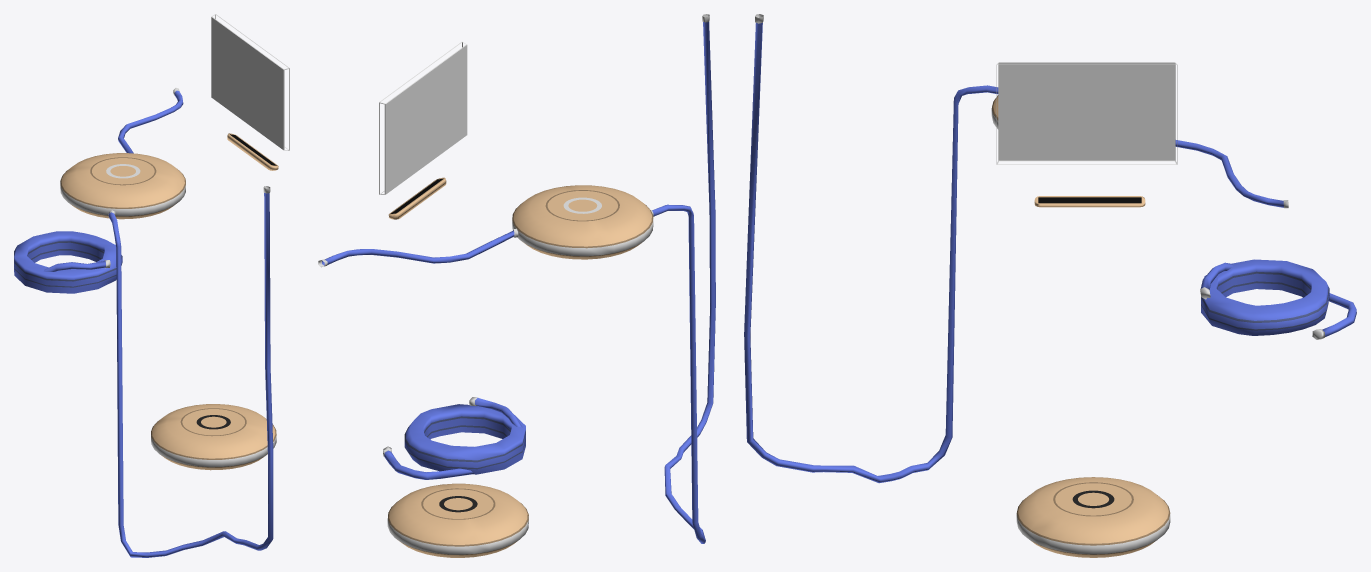
Rendered from Workstation2Clutter.fbx.
The picture shows the model from 3 angles, left to right: view 1: azimuth 30°, elevation 25°; view 2: azimuth 150°, elevation 25°; view 3: azimuth 270°, elevation 25°; orthographic projection. The views are drawn at different scales.
Parts seen in each view (by area): view 1: Cylinder.005; view 2: Cylinder.005; view 3: Cylinder.005.
Part boxes in pixels (x1,y1,x2,y2): Cylinder.005: (14, 14, 289, 557); Cylinder.005: (318, 14, 715, 557); Cylinder.005: (744, 14, 1356, 557).
Size of the model in its own units: 57.55 by 111 by 119.
